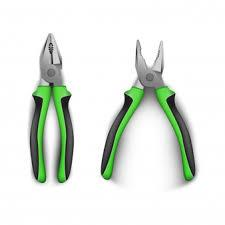pliers: (99, 38, 196, 180), (28, 31, 74, 182)
